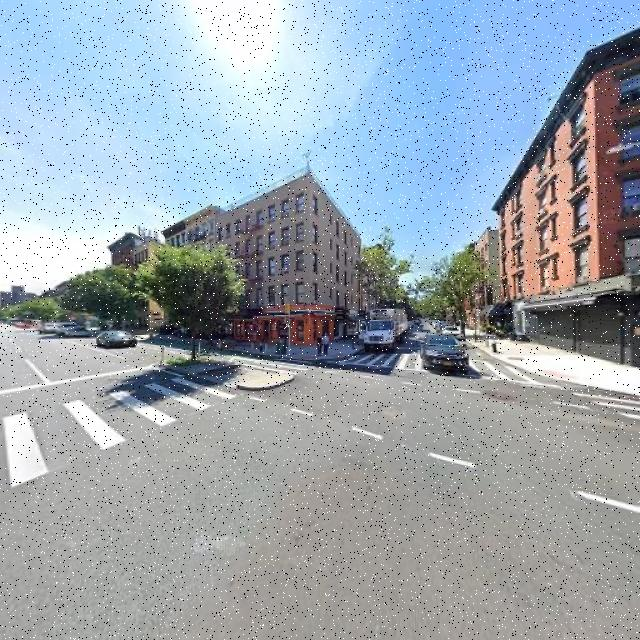Building: (502, 30, 640, 360), (217, 175, 362, 348)
